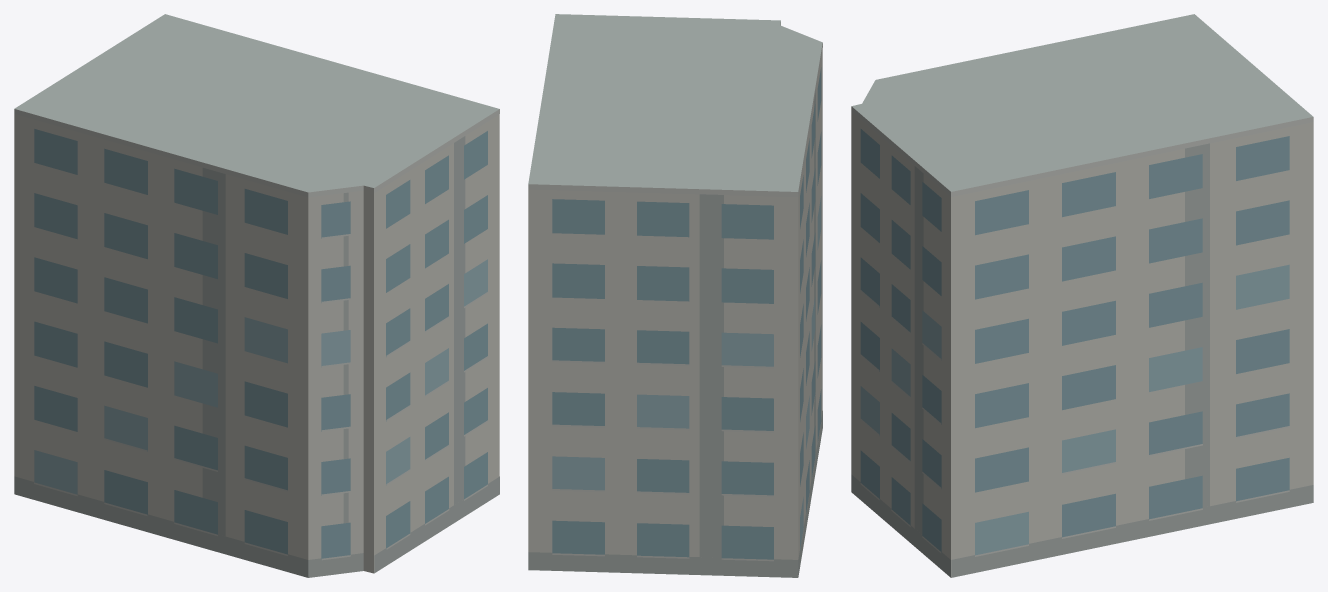
Rendered from survey-upis-32978062.glb.
3 views of the same model, side by side, from view 1: azimuth 30°, elevation 25°; view 2: azimuth 150°, elevation 25°; view 3: azimuth 270°, elevation 25° (orthographic).
Parts seen in each view (by area): view 1: survey-upis-32978062.tmp; view 2: survey-upis-32978062.tmp; view 3: survey-upis-32978062.tmp.
Boxes of the visible parts, <box> form: survey-upis-32978062.tmp: <box>14,14,499,577</box>; survey-upis-32978062.tmp: <box>528,14,822,577</box>; survey-upis-32978062.tmp: <box>851,14,1313,577</box>.
Size of the model in its own units: 18.1 by 18.3 by 19.86.
